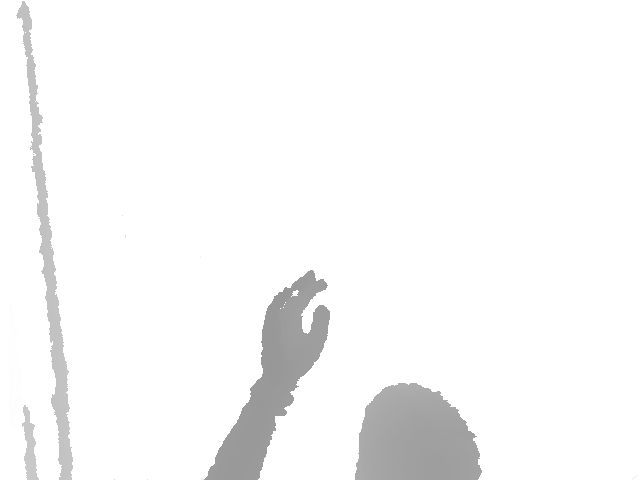hand: (261, 269, 330, 390)
head: (354, 381, 482, 480)
person: (202, 269, 484, 480)
